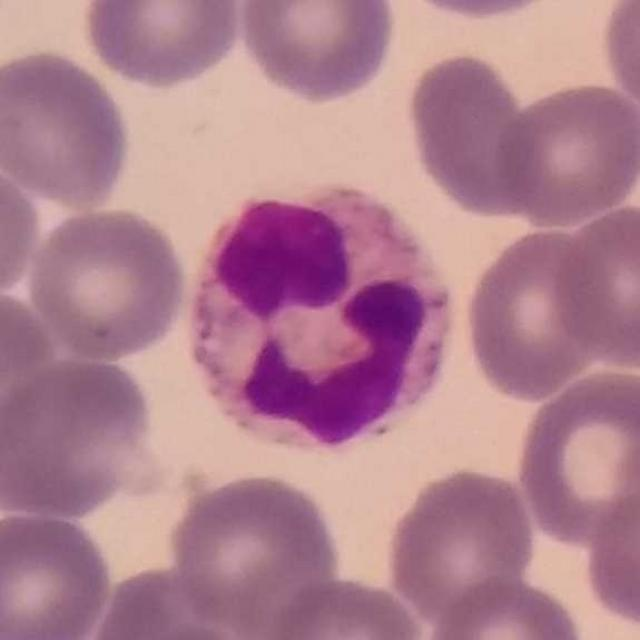Neutrophil: (173, 172, 465, 464)
RBC: (163, 468, 345, 634), (23, 204, 192, 364), (0, 352, 159, 522), (460, 224, 610, 404), (382, 462, 538, 629), (402, 48, 543, 222), (513, 364, 640, 550), (0, 44, 136, 212), (491, 78, 640, 228), (232, 0, 402, 107), (547, 199, 640, 373), (0, 505, 116, 640), (76, 0, 247, 91), (83, 560, 264, 640), (256, 572, 430, 640), (420, 573, 590, 640), (0, 285, 60, 466), (581, 474, 640, 636), (0, 152, 45, 308), (596, 0, 640, 123), (391, 0, 573, 22), (92, 619, 275, 640)
